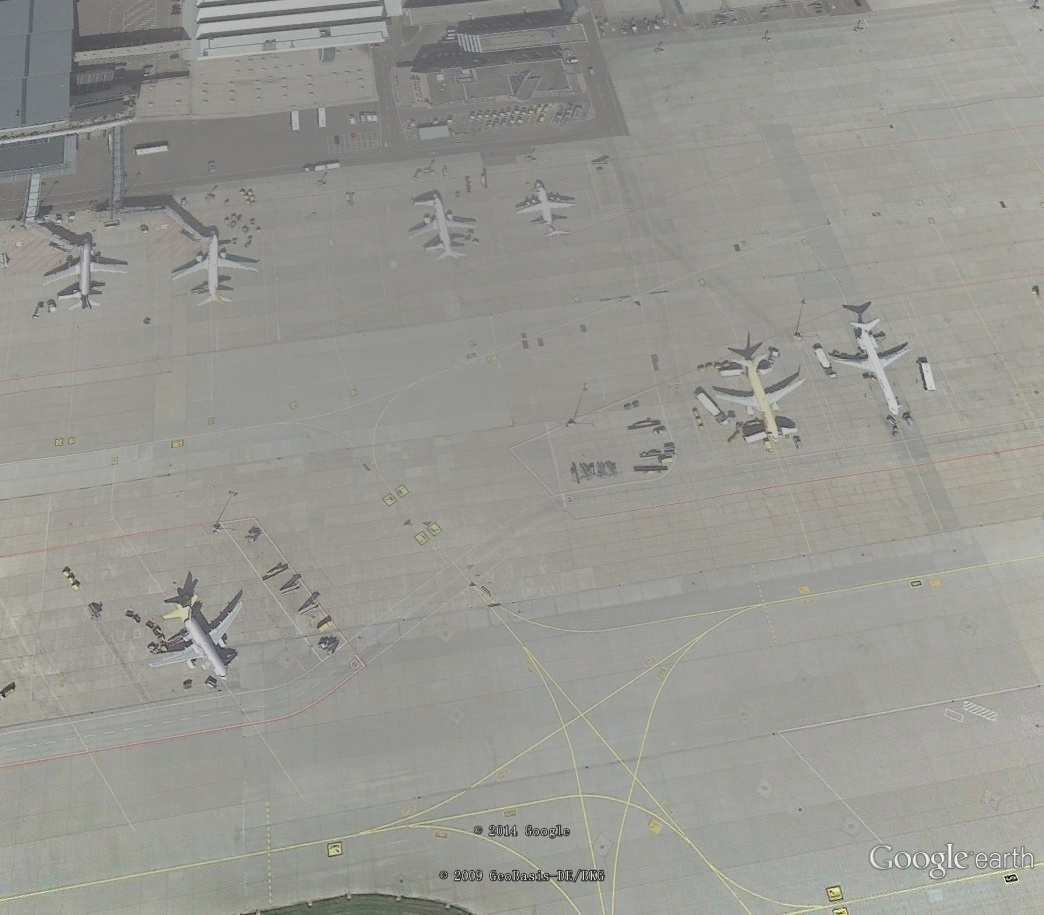aircraft: (709, 346, 811, 450), (822, 313, 918, 421), (145, 591, 249, 688), (168, 229, 265, 312), (39, 237, 135, 313), (402, 189, 481, 267), (513, 178, 580, 243)
